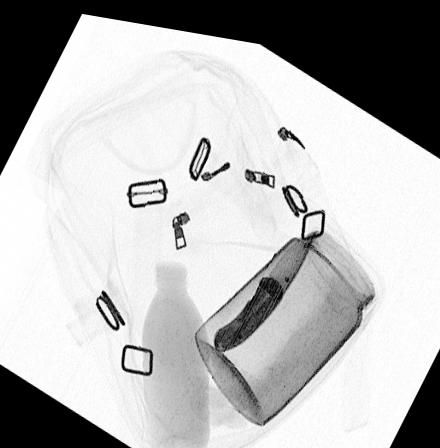Knife: (213, 218, 316, 344)
